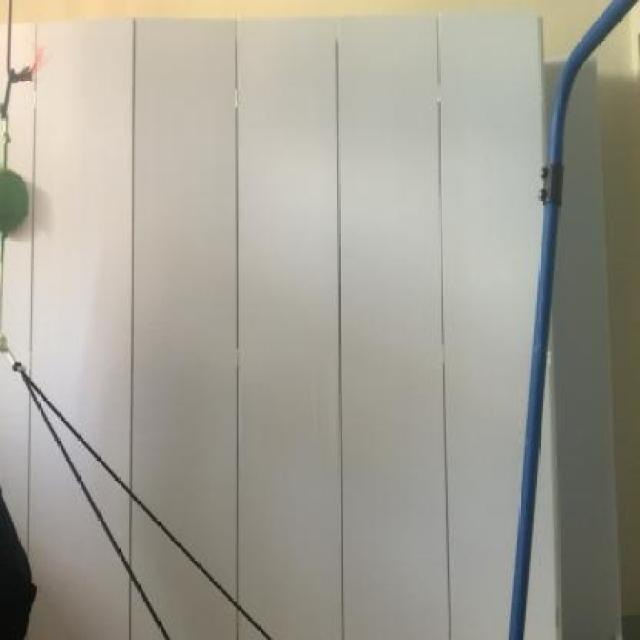baseball: (0, 159, 40, 246)
